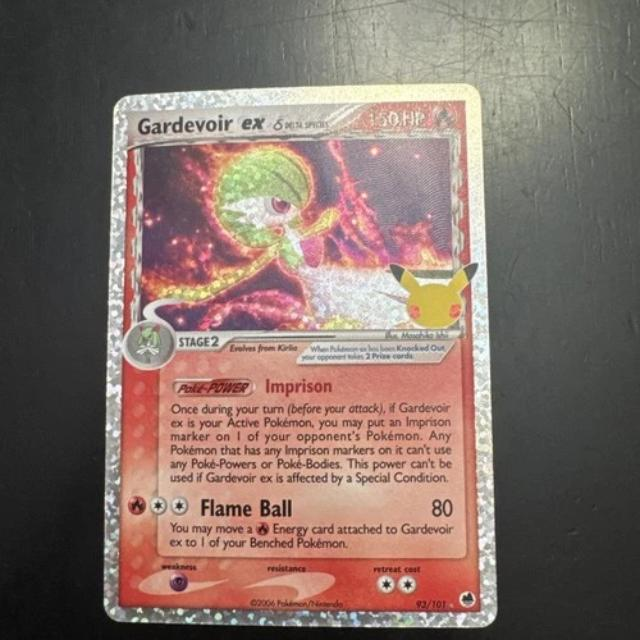Card: (92, 76, 506, 634)
Name: (135, 111, 270, 140)
